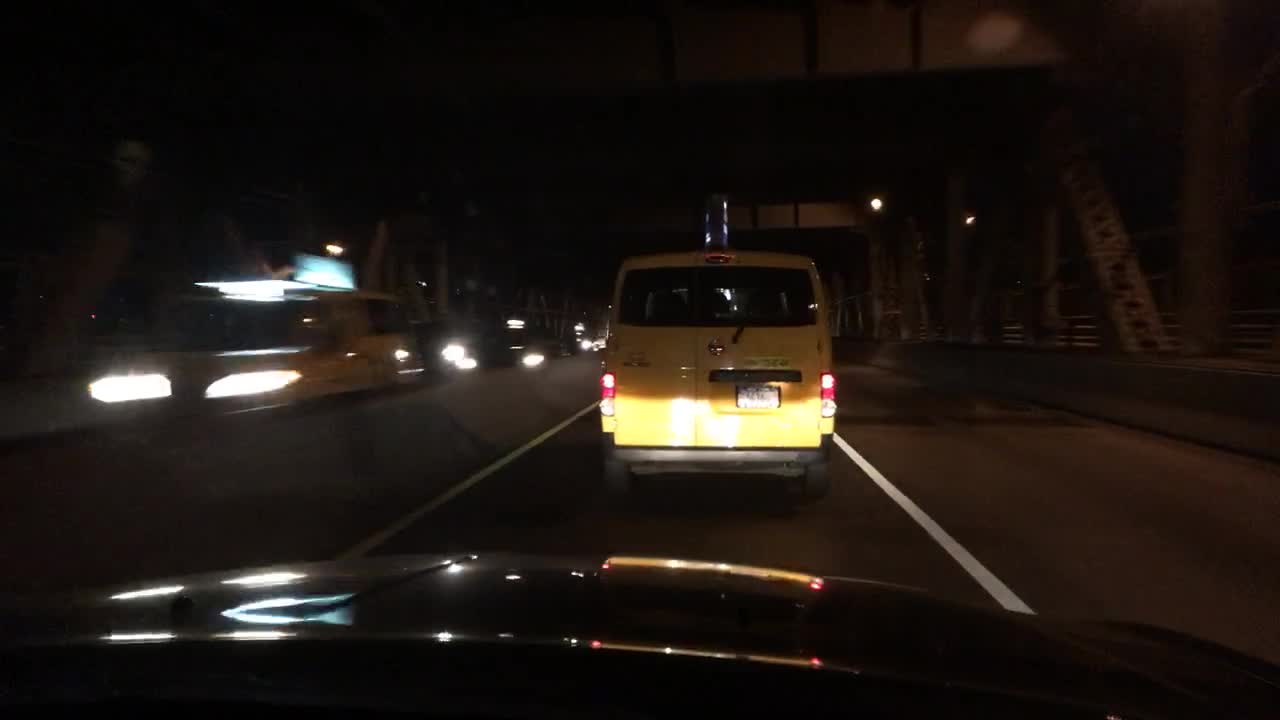car: (600, 197, 832, 500), (85, 280, 418, 420), (423, 320, 501, 374), (514, 339, 552, 368), (575, 329, 606, 353)
traffic sign: (799, 202, 860, 229)
